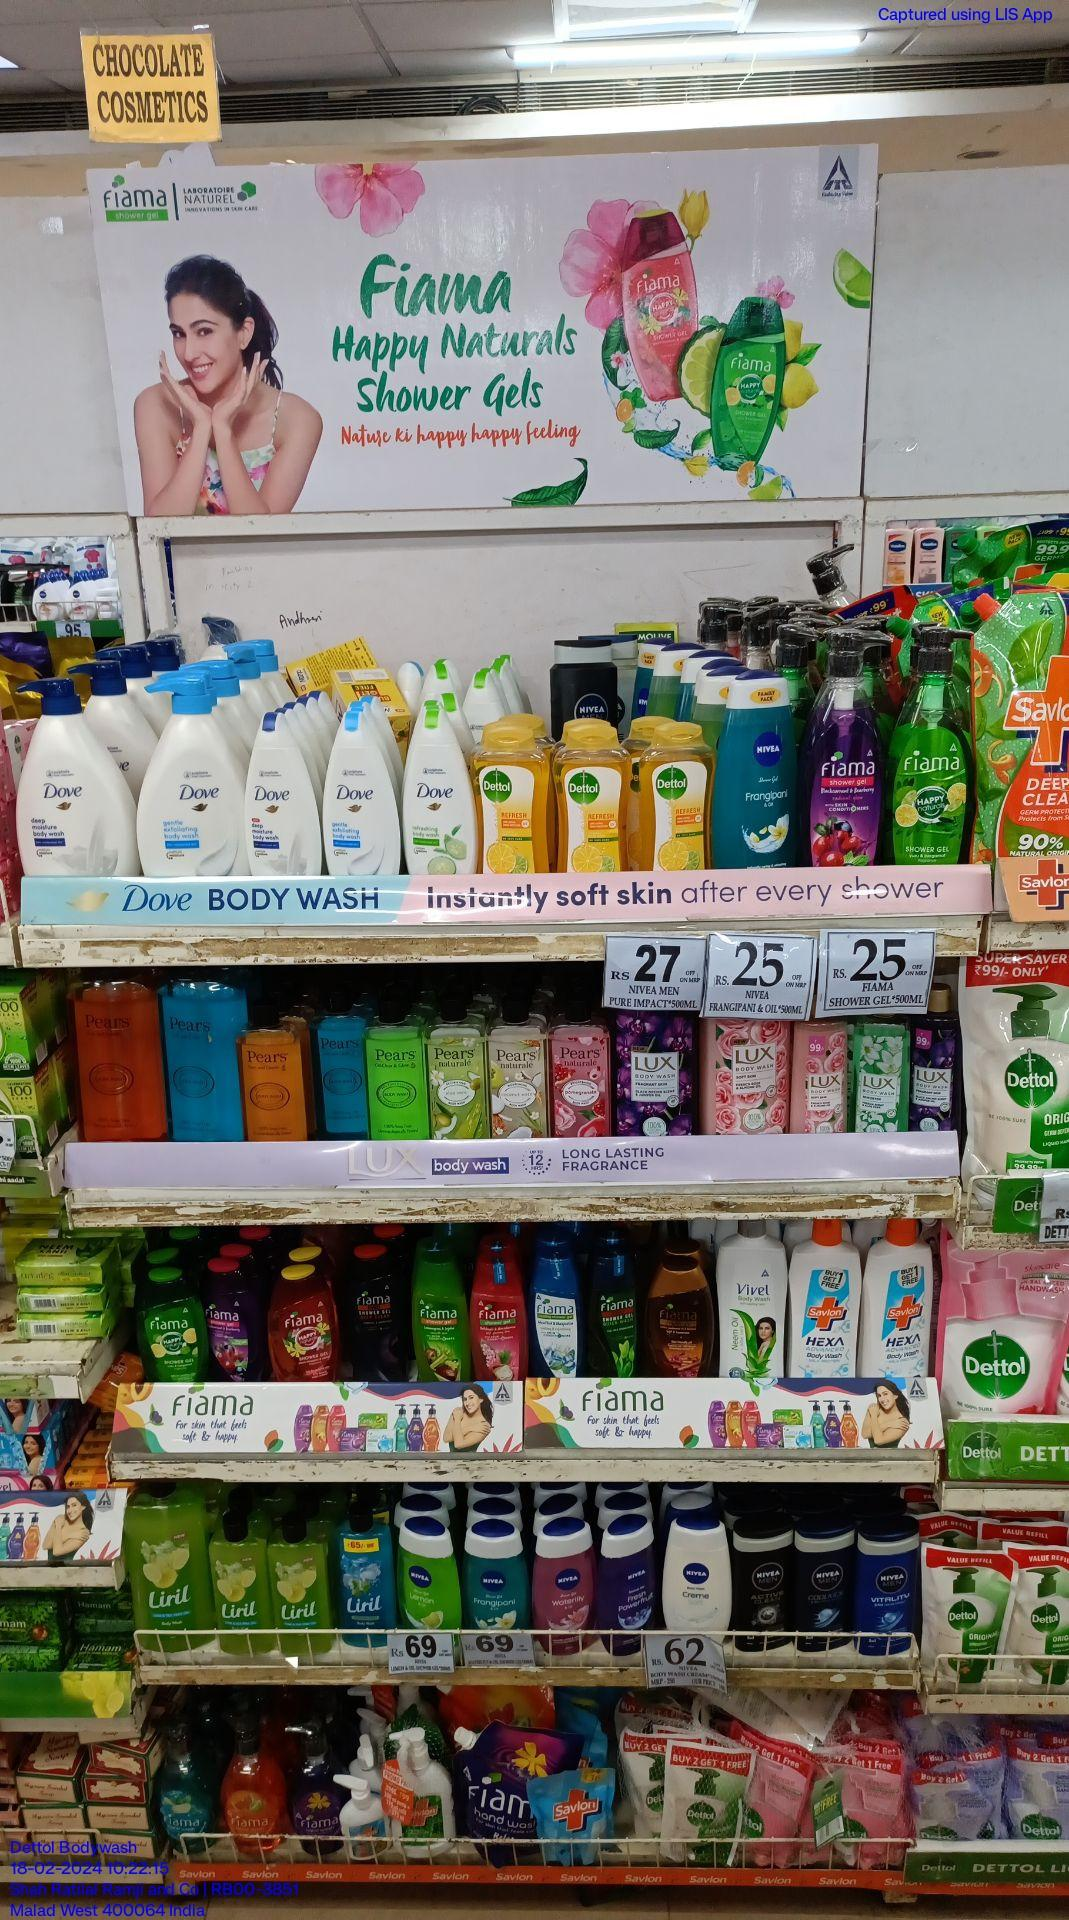Dettol_Bodywash_Refresh: (556, 720, 633, 874), (637, 717, 710, 874), (478, 719, 550, 870)
Dove_Deep_Moisture_Body_Wash_250ML: (246, 705, 323, 878)
Dove_Gentle_Exfoliating_Body_Wash_250ML: (325, 713, 399, 875)
Dove_Refreshing_Body_Wash_250ML: (404, 703, 478, 875)
Liril_Lime_and_Tea_Tree_Oil_Body_Wash_250ML: (212, 1512, 274, 1654), (275, 1517, 337, 1657)
Nivea_Shower_Gel_Frangipani_and_Oil_250ML: (715, 670, 803, 871), (465, 1517, 531, 1632)
Nivea_Shower_Gel_Fresh_Powerfruit_250ML: (600, 1513, 654, 1648)
Nivea_Shower_Gel_Lemon_and_Oil_250ML: (398, 1521, 463, 1634)
Nivea_Shower_Gel_Waterlily_and_Oil_250ML: (534, 1517, 596, 1658)
Pears_Naturale_Aloe_Vera_Body_Wash_250ML: (433, 1003, 495, 1138)
Pears_Pure_Glycerin_and_Lemon_Flower_Extracts_Body_Wash_250ML: (369, 995, 429, 1137)
Pears_Pure_Glycerin_and_Mint_Extracts_Body_Wash_250ML: (317, 1000, 366, 1134)
